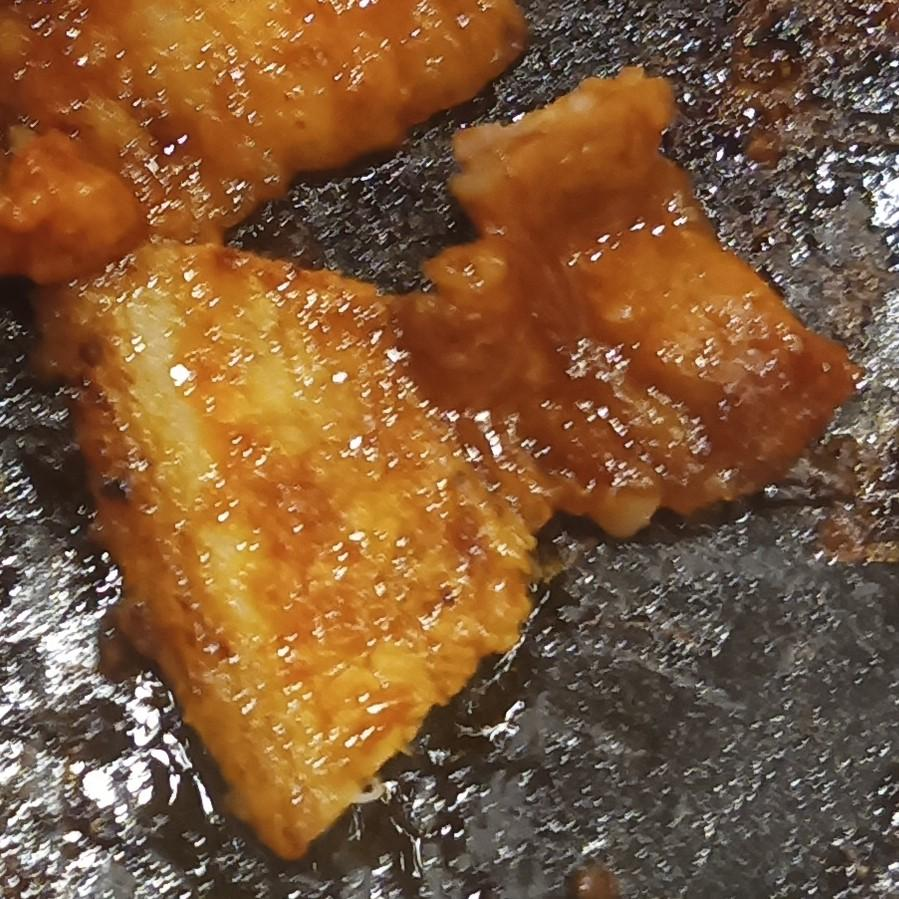Well-Cooked: (36, 240, 560, 857), (387, 70, 859, 536), (0, 0, 526, 283)
